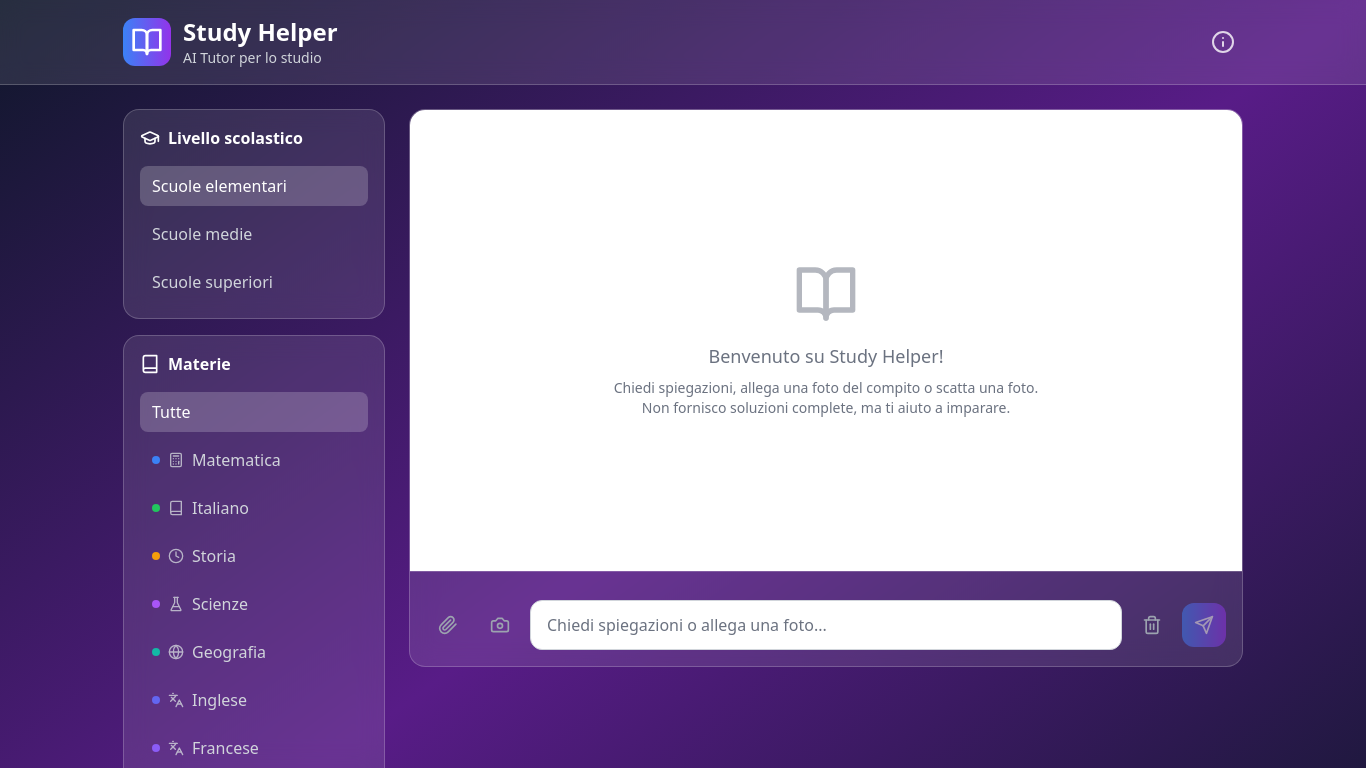
App › renders markdown while streaming before the response completes
This screenshot has width=1366, height=768.
Step 1. Type "Test question" into the field with placeholder "Chiedi spiegazioni o allega una foto..." → (826, 625), box [530,600,1122,650]
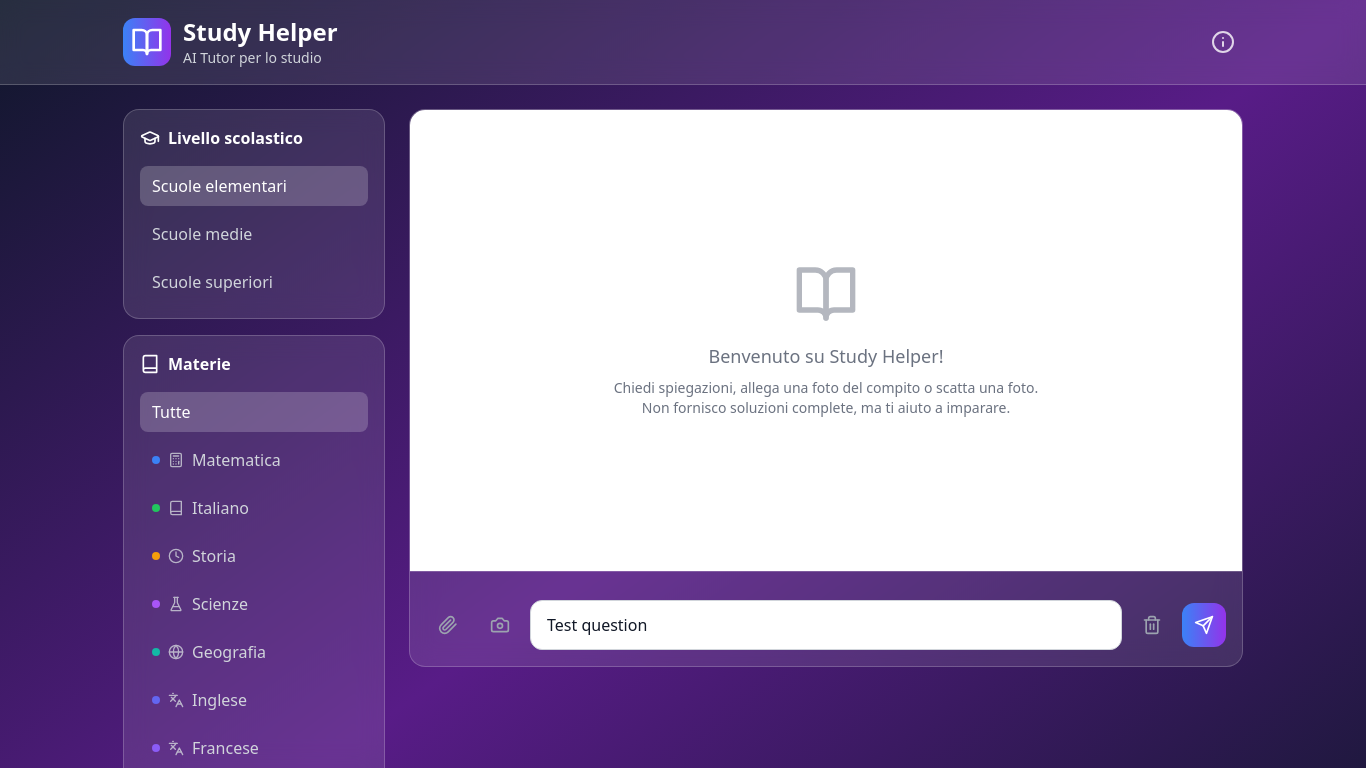
Step 2. Click the button named "invia" → click(1204, 625), box [1182,603,1226,647]
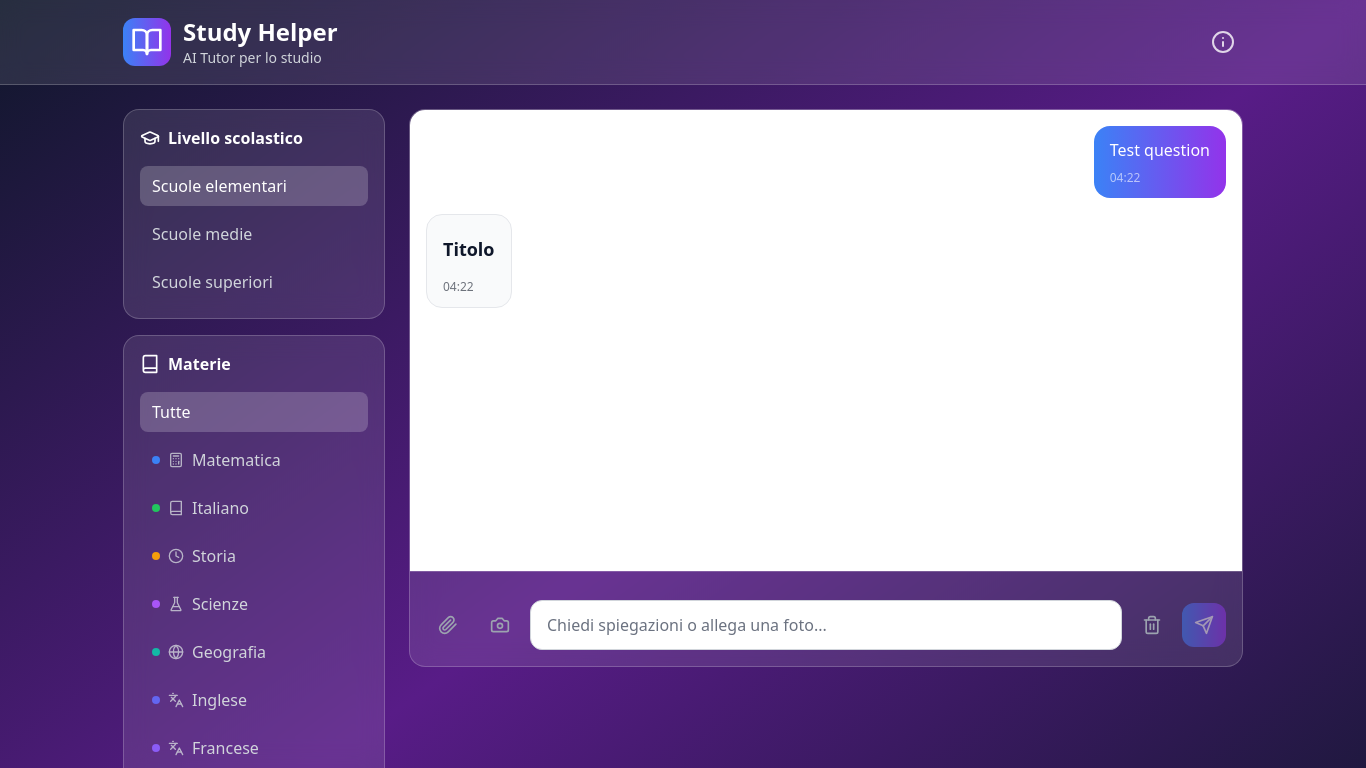
Now the heading "Titolo" is shown, box [443,235,494,263]
